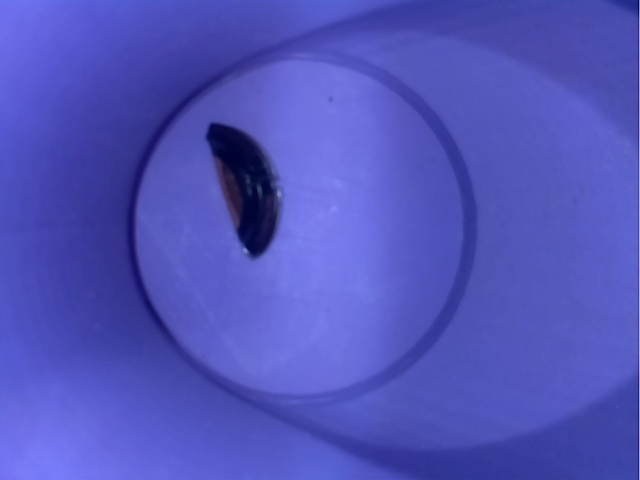capsule: (168, 113, 318, 265)
